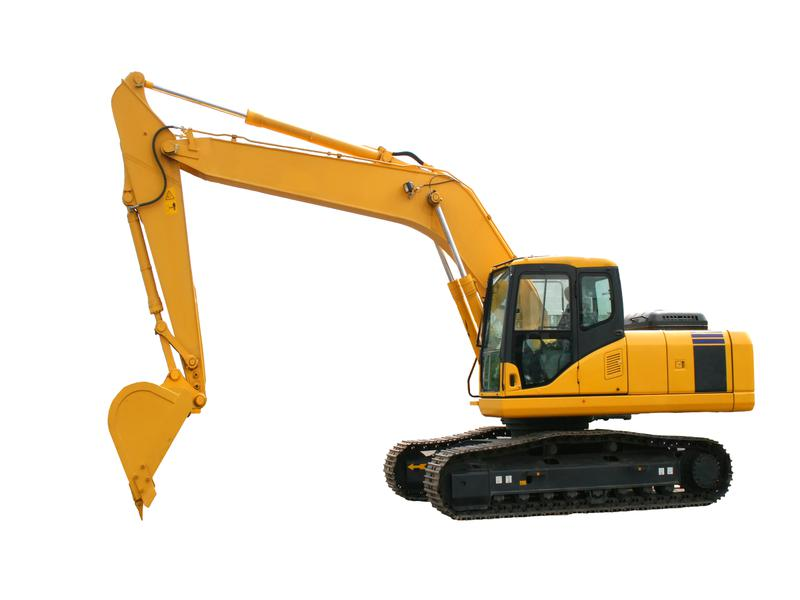shovel: (98, 55, 764, 535)
